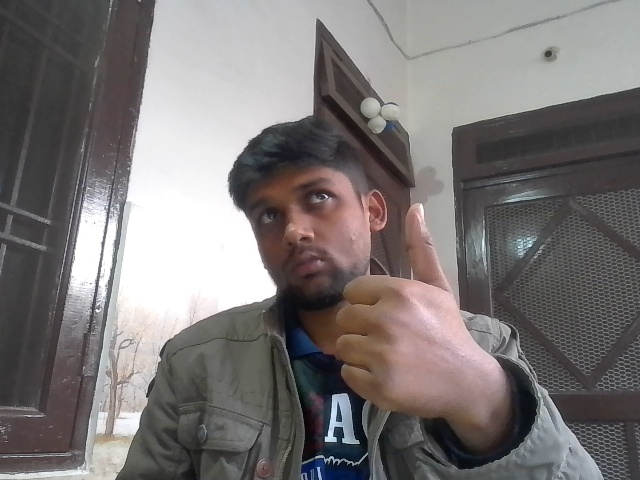BestOfLuck: (326, 201, 470, 415)
